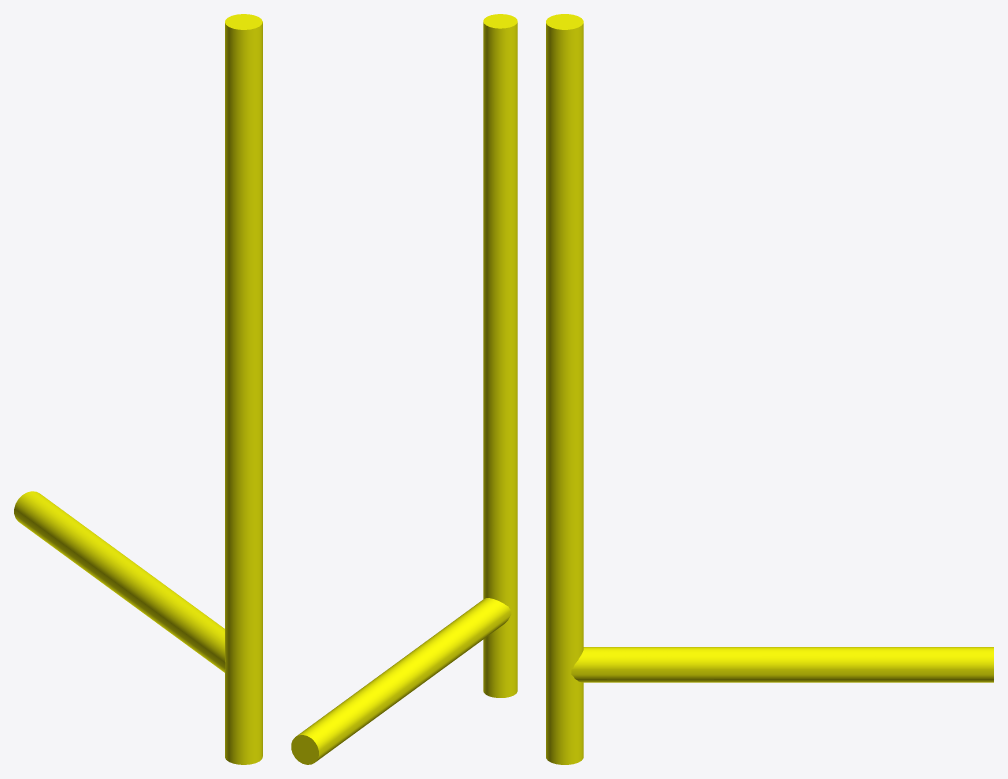
Rendered from Mast.FBX.
The picture shows the model from 3 angles, left to right: view 1: azimuth 30°, elevation 25°; view 2: azimuth 150°, elevation 25°; view 3: azimuth 270°, elevation 25°; orthographic projection. The views are drawn at different scales.
Visible parts, largest first — view 1: Cylinder001; view 2: Cylinder001; view 3: Cylinder001.
Part boxes in pixels (left/top/right/bottom): Cylinder001: left=14, top=14, right=262, bottom=764; Cylinder001: left=291, top=14, right=517, bottom=764; Cylinder001: left=546, top=14, right=993, bottom=764.
Bounding box in the file's own units: 3.22 × 38.42 × 69.57.
